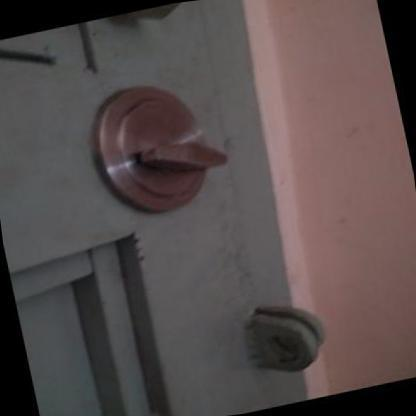lock: (66, 51, 301, 248)
